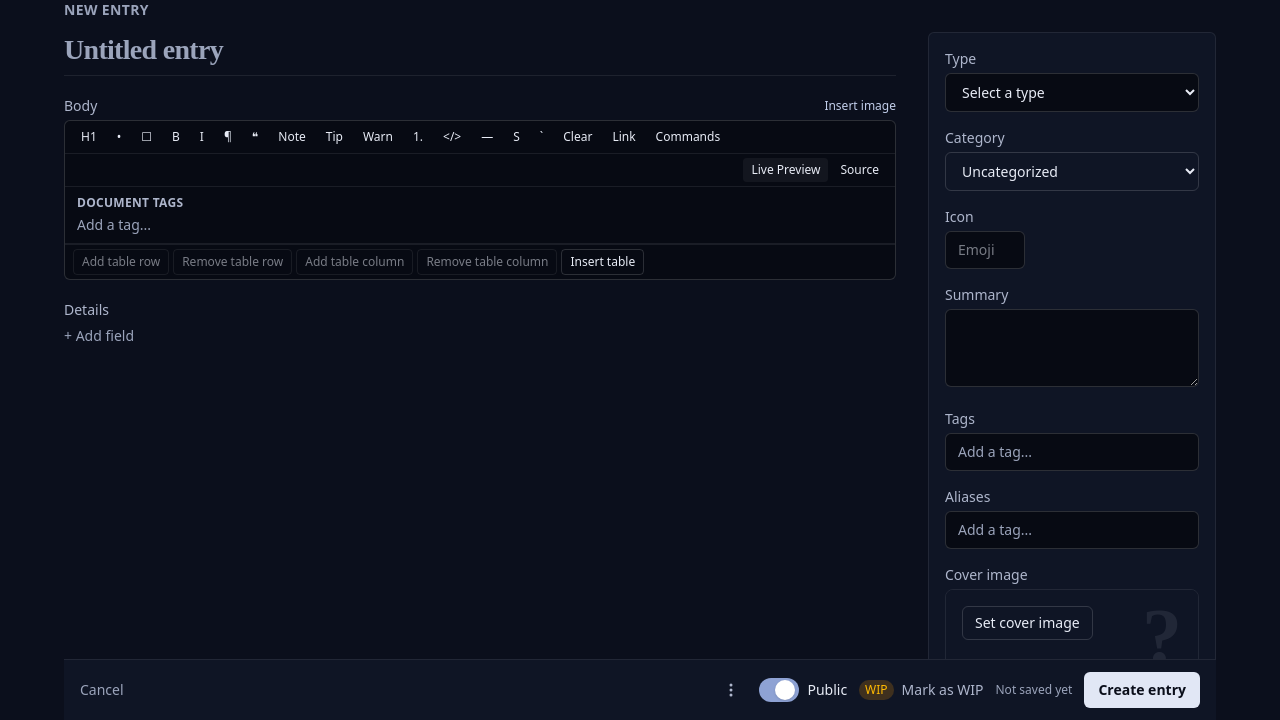
Test: Content-Forward Views §5 — editor hero › offers the cover affordance and opens the EXISTING set-cover asset picker
Step 1. Click the button "Set cover image" → {"x": 1027, "y": 622}, box [962,606,1093,640]
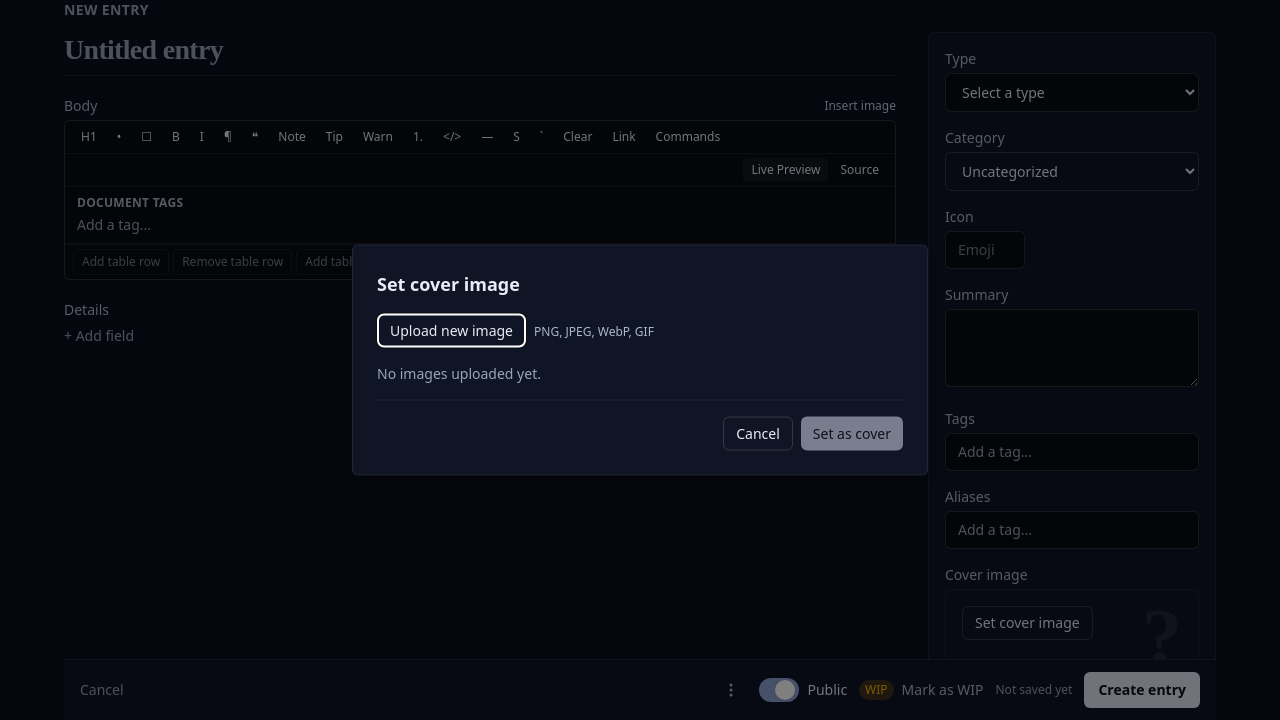
Check: the dialog is shown, box [352,244,928,476]
